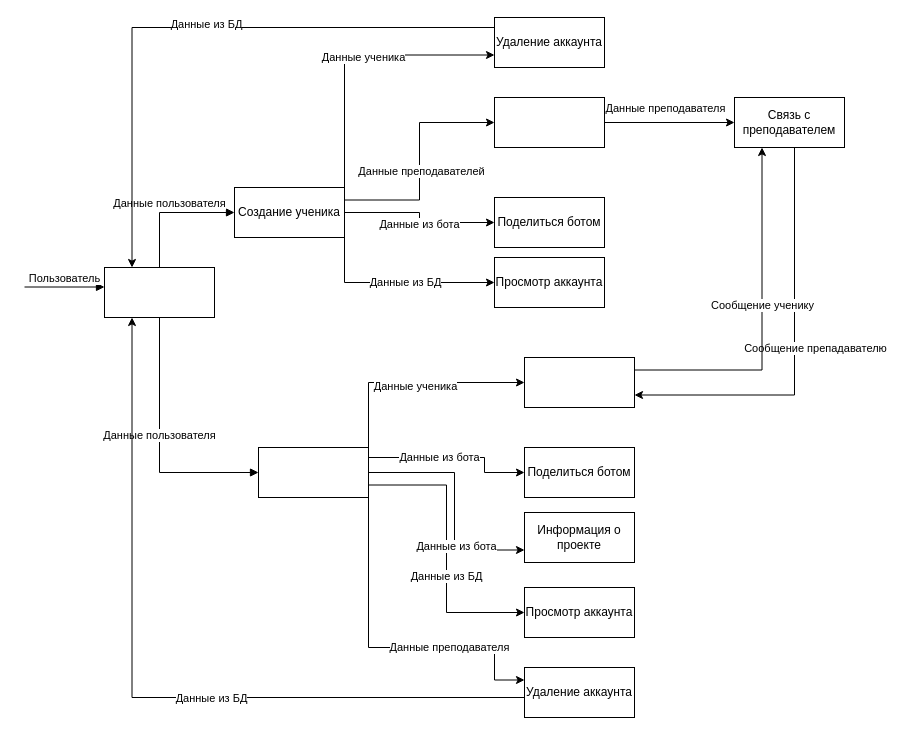
Image size: 904x735. Some labels were removed from this diagram. Here are the shapes that lost their labels. From the top down, the box of each, then its label:
(494, 96, 604, 148): Найти преподавателя
(104, 266, 214, 318): Регистрация
(524, 356, 634, 408): Связь с учеником
(258, 446, 368, 498): Создание преподавателя
